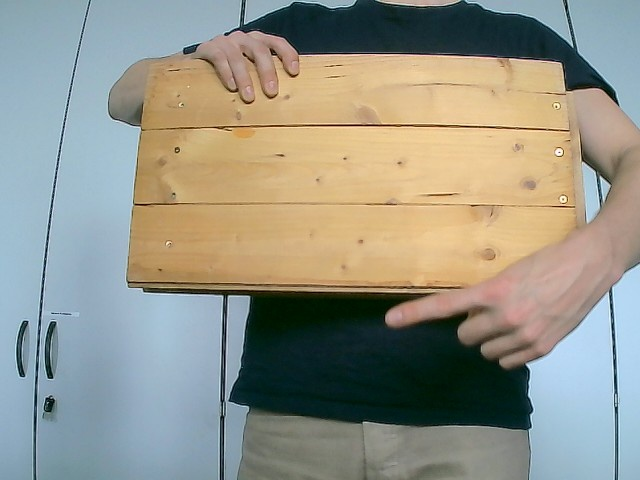no_gesture: (189, 29, 301, 104)
right: (381, 238, 609, 371)
